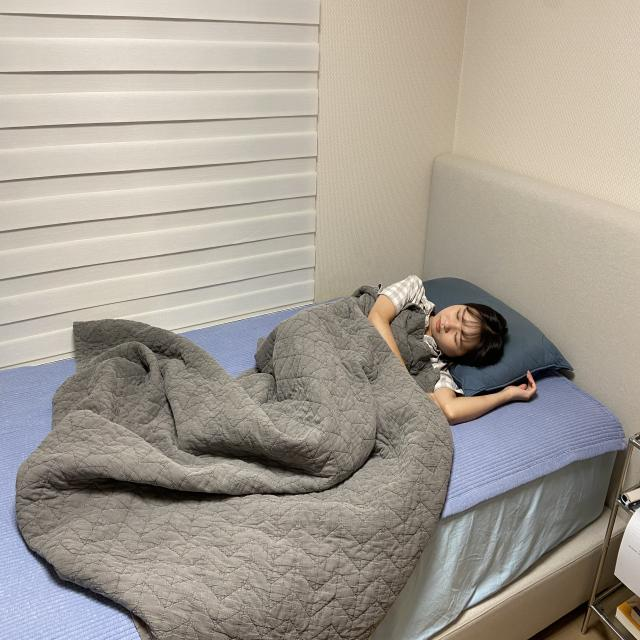sleeping-person: (43, 262, 540, 588)
